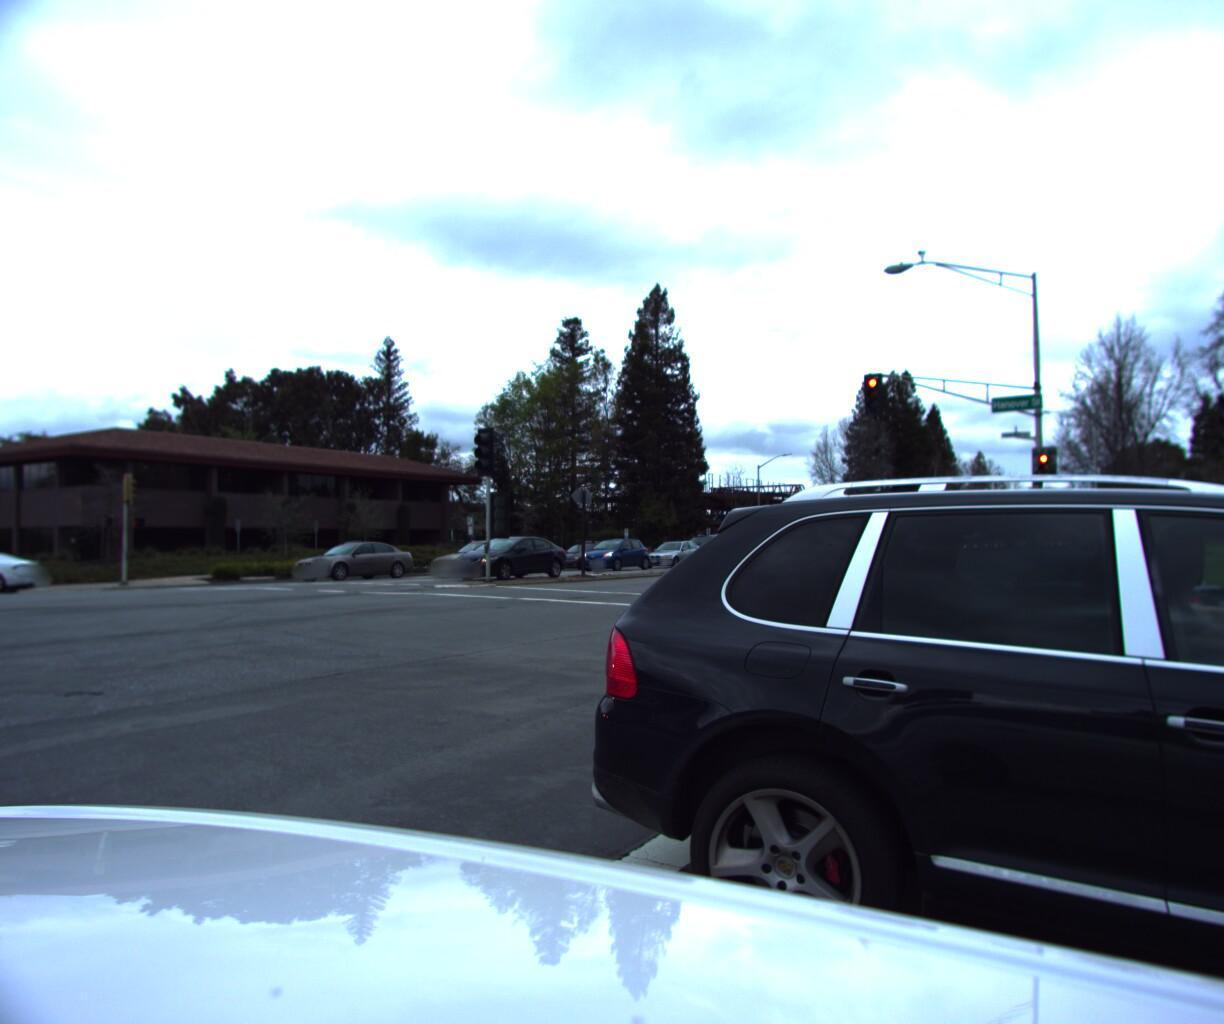car: (534, 337, 1224, 1024), (446, 534, 578, 587), (288, 540, 418, 586), (421, 538, 549, 584), (574, 536, 657, 573), (0, 547, 47, 605), (635, 537, 713, 568), (673, 536, 738, 565), (542, 540, 601, 569)
